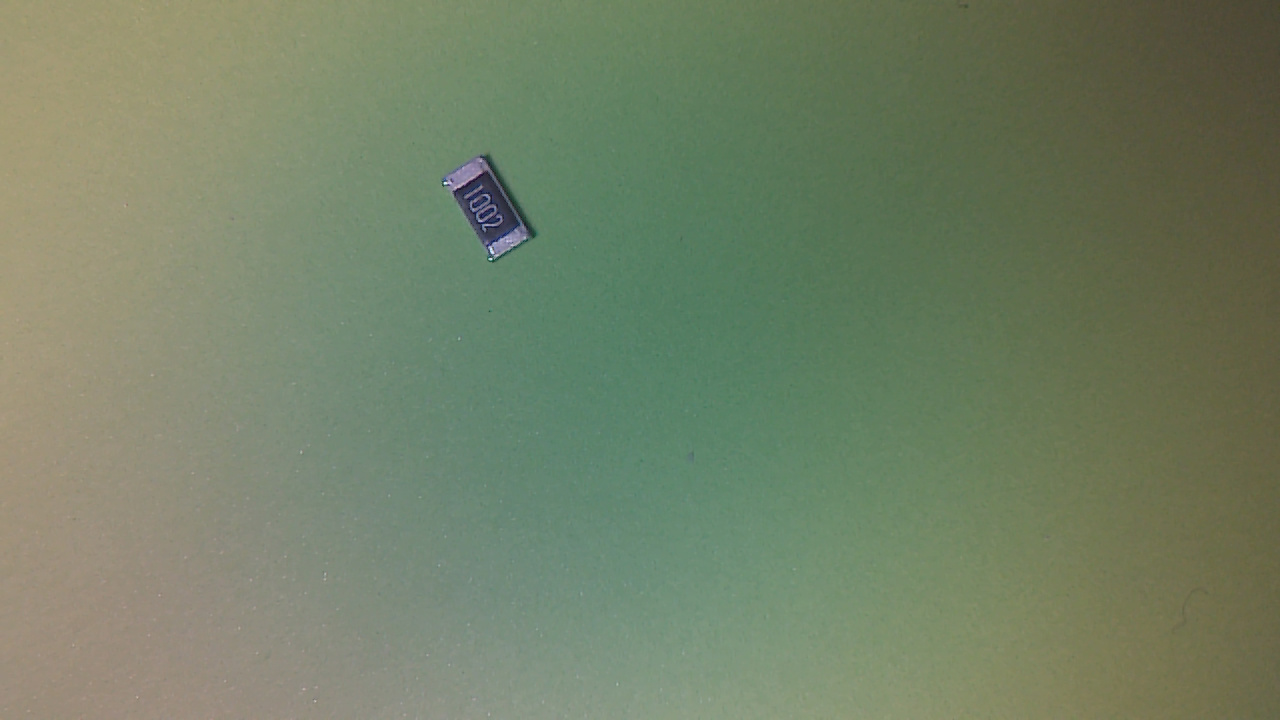Resistor: (441, 154, 549, 274)
